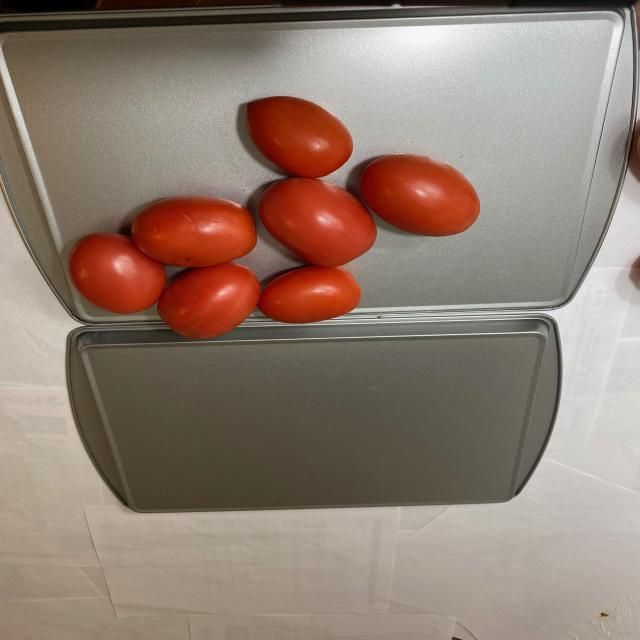tomato: (62, 96, 481, 339)
